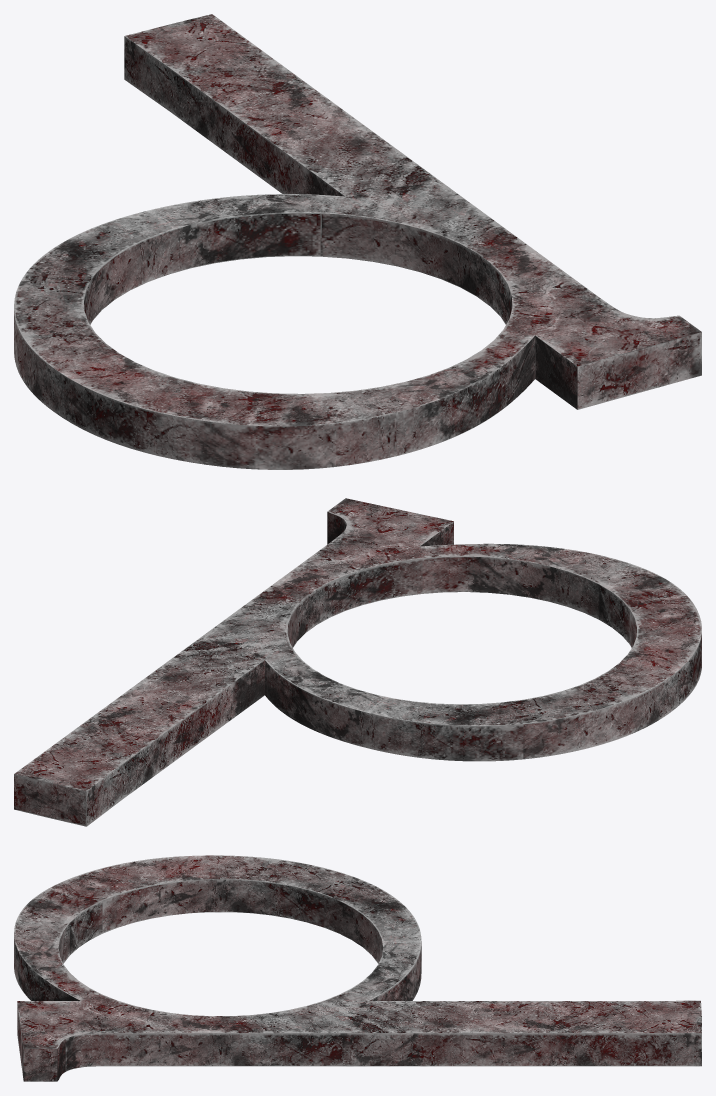
The model's file is newpinball_rogo_dd.fbx.
3 renders of one model, top to bottom at view 1: azimuth 30°, elevation 25°; view 2: azimuth 150°, elevation 25°; view 3: azimuth 270°, elevation 25°, orthographic. The views are drawn at different scales.
Parts seen in each view (by area): view 1: rogod; view 2: rogod; view 3: rogod.
Boxes of the visible parts, x1,y1,x2,y2 form: rogod: (14,14,701,469); rogod: (14,498,701,826); rogod: (14,855,701,1081).
Size of the model in its own units: 16.44 by 1.31 by 24.74.
